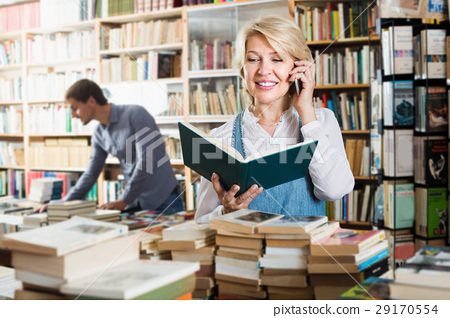phone: (286, 61, 309, 99)
talk: (240, 46, 317, 113)
